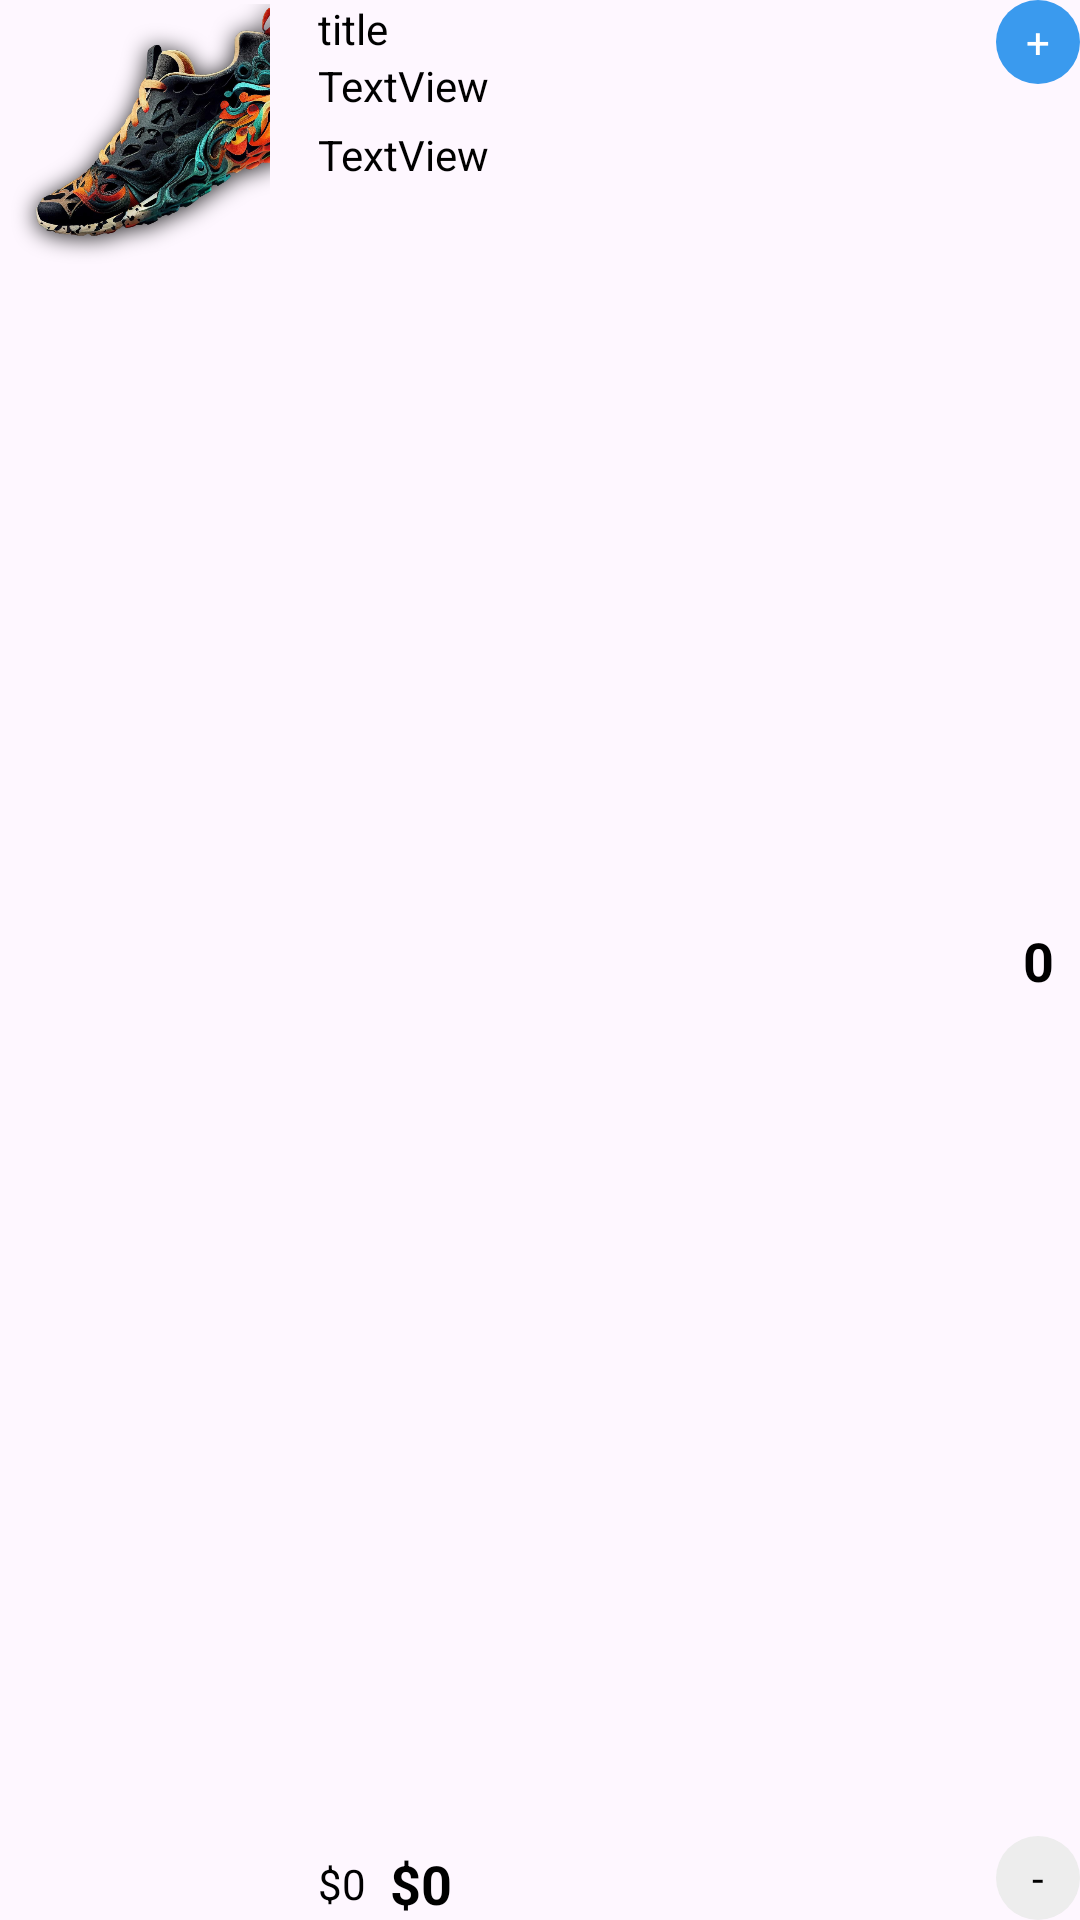

Where icons sit on this 1080×1920 app screen, as [x1, y1, x2, y2]:
shoes: [25, 4, 270, 250]
